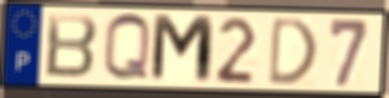2: (215, 14, 260, 86)
7: (327, 16, 370, 90)
B: (43, 12, 100, 81)
D: (266, 14, 320, 88)
M: (148, 12, 217, 87)
Q: (101, 11, 153, 85)
